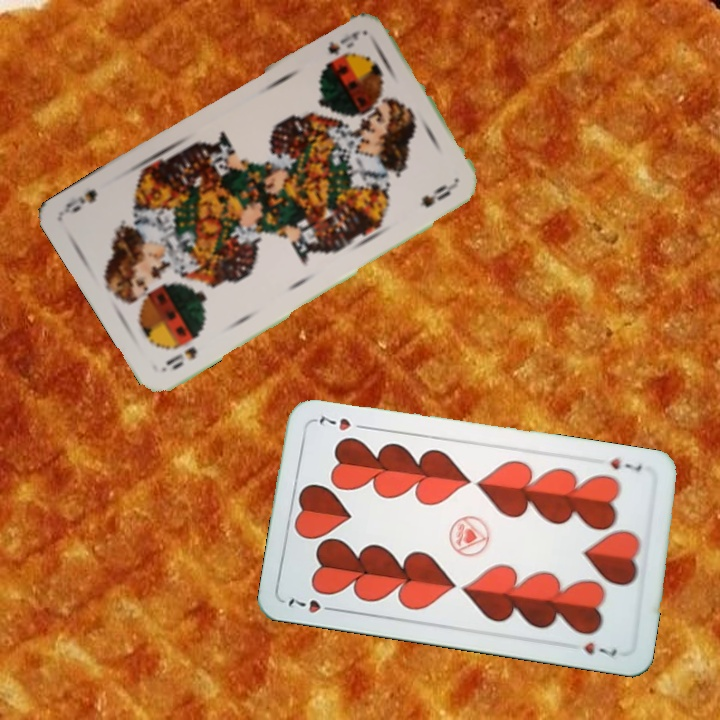H7: (284, 594, 341, 616), (606, 453, 645, 474)
SO: (159, 343, 200, 373), (323, 27, 361, 58)
